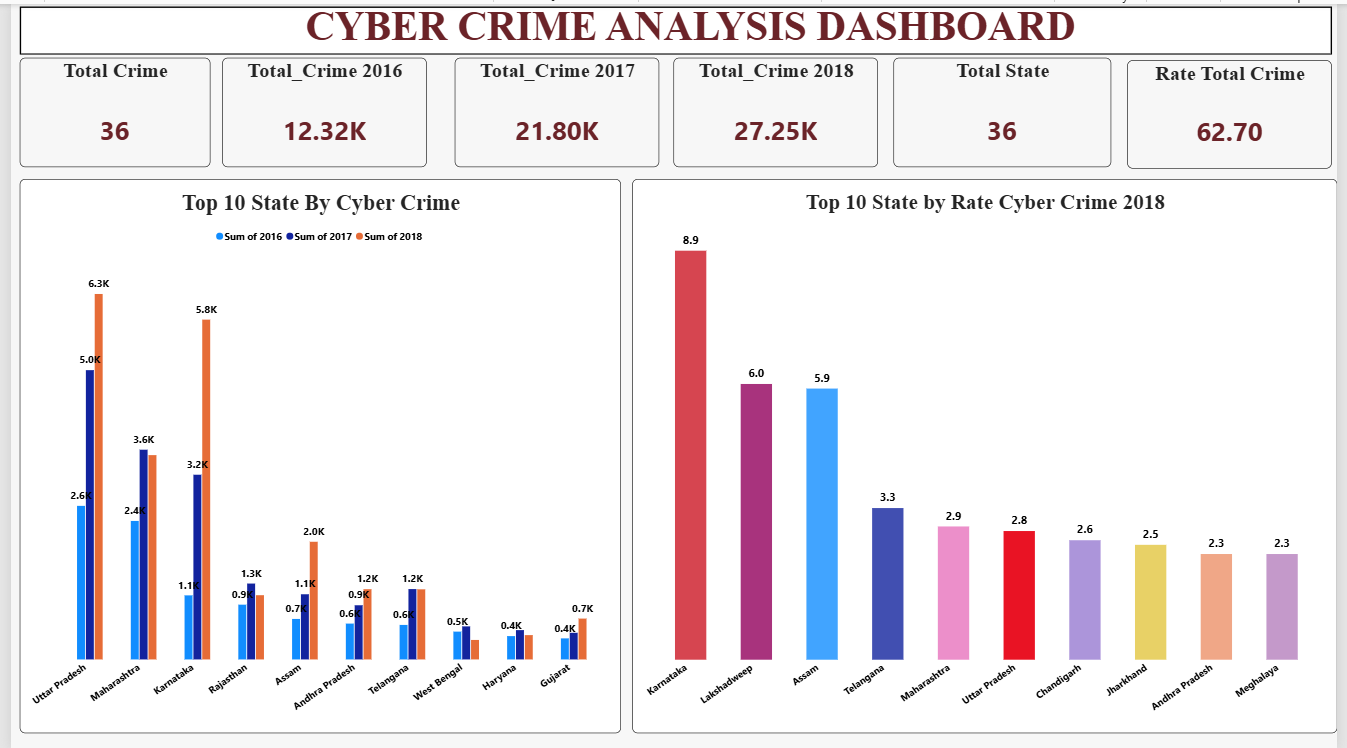

The dashboard page shown, as its layout file describes it:
{"tool":"powerbi","page":{"name":"Page 1","canvas":[1920,1080],"ordinal":0},"visuals":[{"type":"cardVisual","title":"Total Crime ","fields":{"Data":["cyber_crimes__.Total_Crime"]},"box":[12.3,78.2,275.8,158.5],"z":0},{"type":"shape","box":[12.3,4.1,1899.8,70],"z":1000},{"type":"textbox","box":[35,334,224,150],"z":2000},{"type":"textbox","box":[12.3,0,1899.8,74.1],"z":3000},{"type":"cardVisual","title":"Total State","fields":{"Data":["cyber_crimes__.Total_State"]},"box":[1278.2,78.2,314.9,158.5],"z":4000},{"type":"cardVisual","title":"Total_Crime 2016","fields":{"Data":["cyber_crimes__.crime2016"]},"box":[306.7,78.2,296.4,158.5],"z":5000},{"type":"cardVisual","title":"Total_Crime 2017","fields":{"Data":["cyber_crimes__.Total_crime_2017"]},"box":[642.2,78.2,296.4,158.5],"z":6000},{"type":"cardVisual","title":"Total_Crime 2018","fields":{"Data":["cyber_crimes__.Total_crime 2018"]},"box":[959.2,78.2,296.4,158.5],"z":7000},{"type":"clusteredColumnChart","title":"Top 10 State By Cyber Crime","fields":{"Category":["cyber_crimes__.State"],"Y":["Sum(cyber_crimes__.2016)","Sum(cyber_crimes__.2017)","Sum(cyber_crimes__.2018)"]},"box":[12.3,253.2,870.7,802.7],"z":8000},{"type":"clusteredColumnChart","title":"Top 10 State by Rate Cyber Crime 2018","fields":{"Category":["cyber_crimes__.State"],"Y":["Sum(cyber_crimes__.Rate of Total Cyber Crimes (2018))"]},"box":[899.5,253.2,1020.9,802.7],"z":8002},{"type":"cardVisual","title":"Rate Total Crime","fields":{"Data":["cyber_crimes__.Rate_of_total_crime"]},"box":[1615.8,82.3,296.4,156.4],"z":8003}]}

Visuals, with their boxes in screenshot pixels (x1, y1, x2, y2), scaled from the page's 1920x1080 canvas onto the 1347x748 screenshot:
"Total Crime " cardVisual: [9,54,202,164]
shape: [9,3,1341,51]
textbox: [25,231,182,335]
textbox: [9,0,1341,51]
"Total State" cardVisual: [897,54,1118,164]
"Total_Crime 2016" cardVisual: [215,54,423,164]
"Total_Crime 2017" cardVisual: [451,54,658,164]
"Total_Crime 2018" cardVisual: [673,54,881,164]
"Top 10 State By Cyber Crime" clusteredColumnChart: [9,175,619,731]
"Top 10 State by Rate Cyber Crime 2018" clusteredColumnChart: [631,175,1346,731]
"Rate Total Crime" cardVisual: [1134,57,1342,165]
